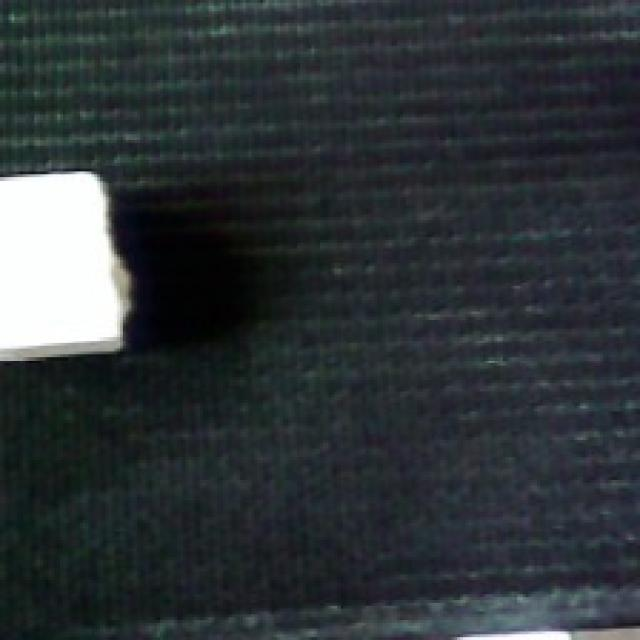defected: (0, 163, 143, 366)
